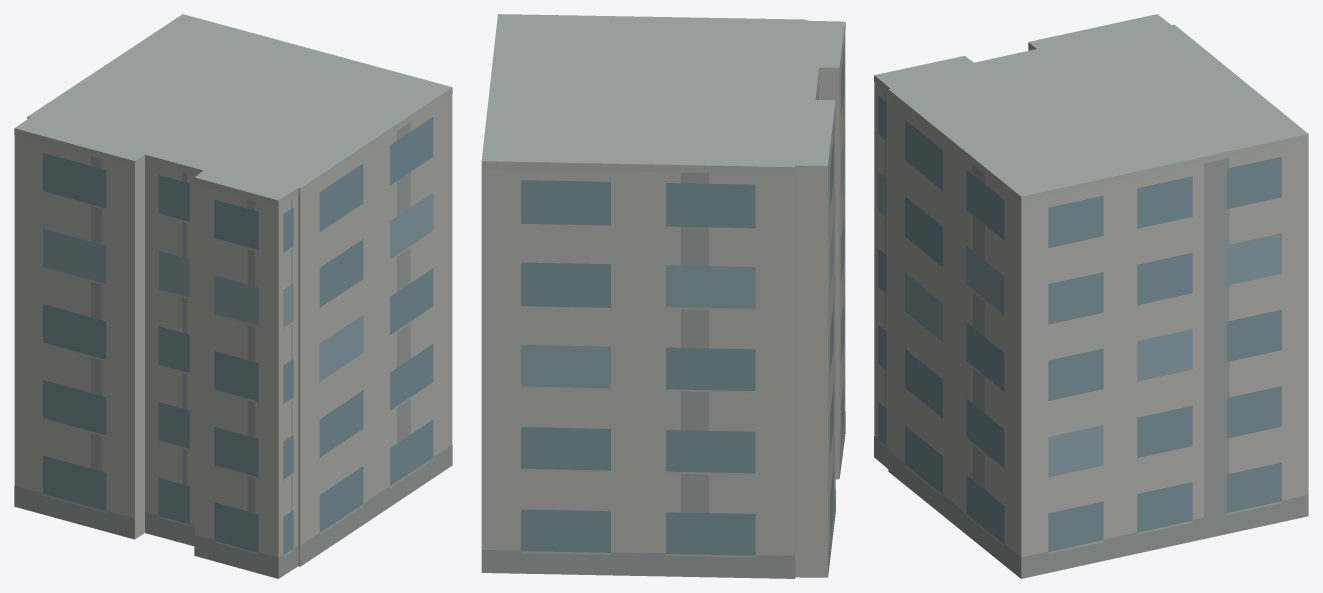
The model's file is survey-upis-33012100.glb.
3 views of the same model, side by side, from view 1: azimuth 30°, elevation 25°; view 2: azimuth 150°, elevation 25°; view 3: azimuth 270°, elevation 25° (orthographic). The views are drawn at different scales.
Parts seen in each view (by area): view 1: survey-upis-33012100.tmp; view 2: survey-upis-33012100.tmp; view 3: survey-upis-33012100.tmp.
Part boxes in pixels (x1,y1,x2,y2): survey-upis-33012100.tmp: (14,14,452,578); survey-upis-33012100.tmp: (481,14,845,578); survey-upis-33012100.tmp: (874,14,1308,578).
Bounding box in the file's own units: 13.54 × 13.2 × 13.61.
